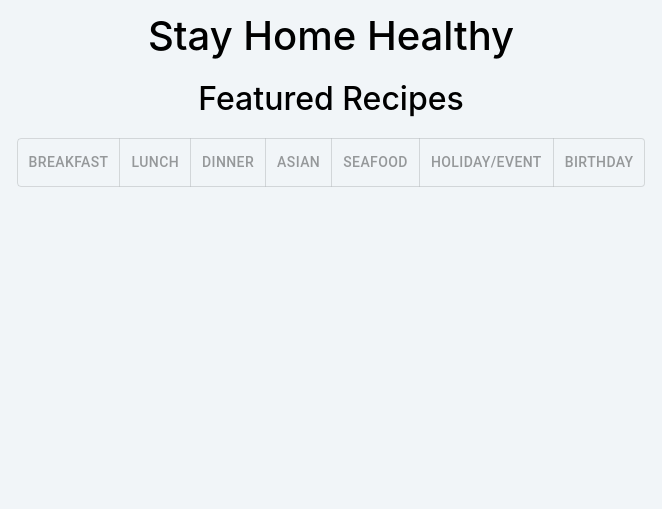
Test: Homepage scenario › click filter should render different data
Click the button "Breakfast" at {"x": 68, "y": 163}, box left=16, top=138, right=120, bottom=187
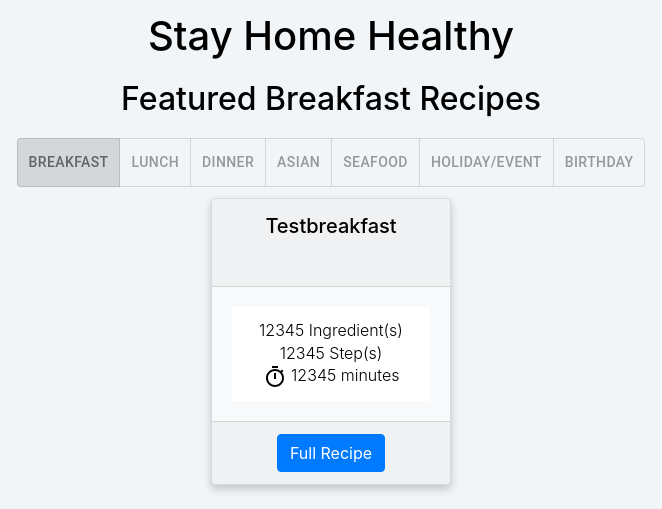
Check: the link "Full Recipe" is shown, box left=290, top=443, right=372, bottom=463
Check: the text "testbreakfast" is shown, box left=265, top=214, right=397, bottom=238
Click the button "Lunch" at {"x": 155, "y": 163}, box left=119, top=138, right=191, bottom=187
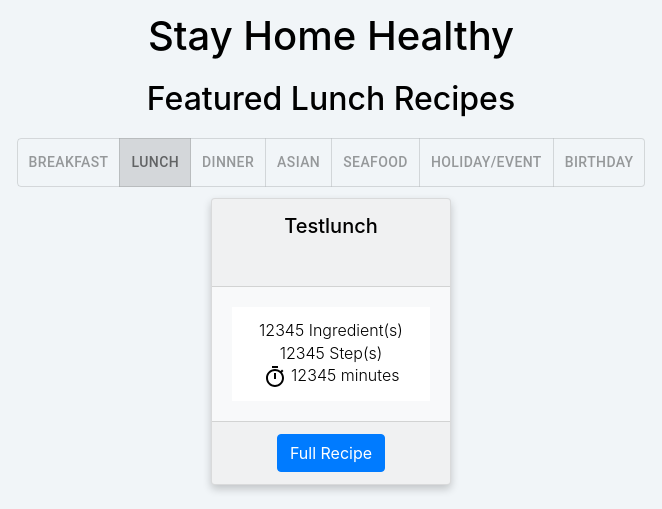
Check: the link "Full Recipe" is shown, box left=290, top=443, right=372, bottom=463
Check: the text "testlunch" is shown, box left=284, top=214, right=378, bottom=238
Click the button "Seafood" at {"x": 376, "y": 163}, box left=331, top=138, right=420, bottom=187
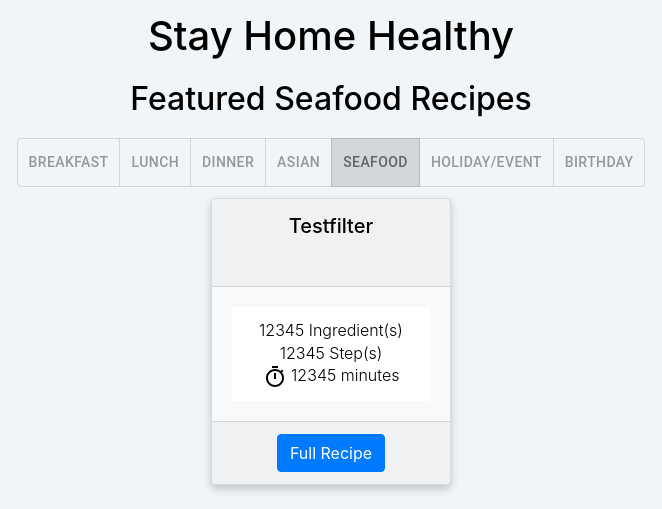
Check: the link "Full Recipe" is shown, box left=290, top=443, right=372, bottom=463
Check: the text "testfilter" is shown, box left=289, top=214, right=373, bottom=238
